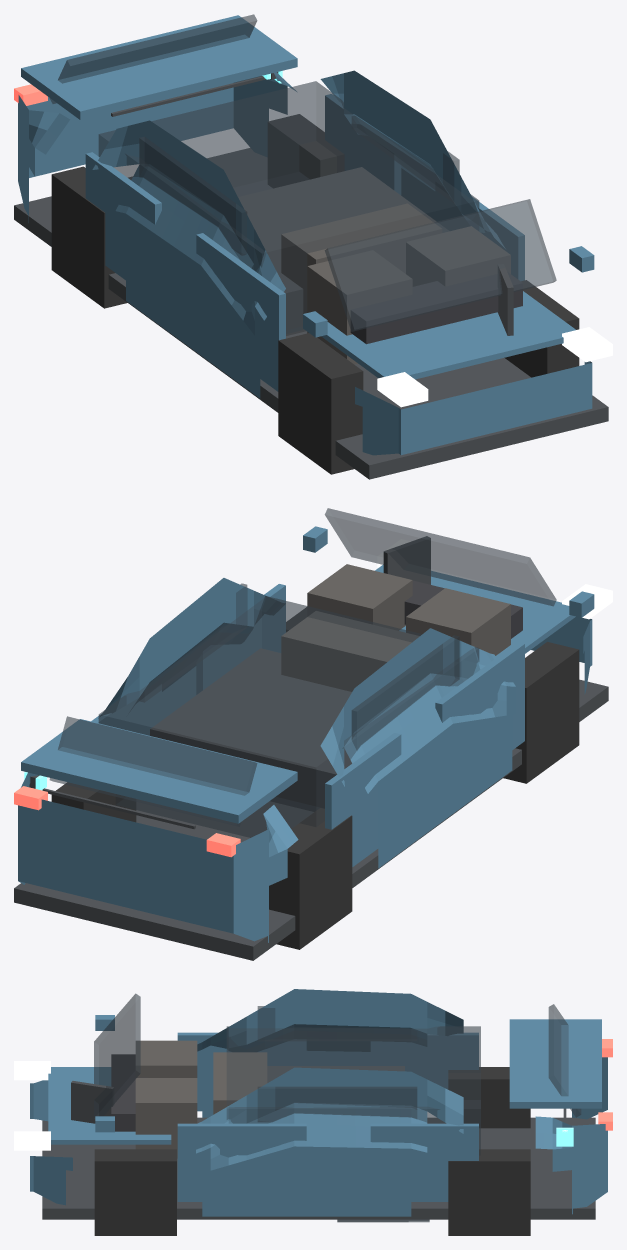
The model's file is compact_sedan_lod2.glb.
3 renders of one model, top to bottom at view 1: azimuth 30°, elevation 25°; view 2: azimuth 150°, elevation 25°; view 3: azimuth 270°, elevation 25°, orthographic. The views are drawn at different scales.
Parts seen in each view (by area): view 1: body_mesh, cab_mesh, windshield, trunk_mesh, trim_mesh, frunk_mesh, tire_fr, wheel_well_mesh, seat_rear, tire_rr, dash, seat_r (+14 smaller); view 2: body_mesh, cab_mesh, wheel_well_mesh, trunk_mesh, trim_mesh, windshield, tire_rr, rear_glass, seat_rear, tire_fr, seat_l, door_rr_mesh (+14 smaller); view 3: body_mesh, cab_mesh, trim_mesh, trunk_mesh, tire_fl, tire_rl, window_fixed_l, door_rl_mesh, door_fl_mesh, frunk_mesh, windshield, seat_l (+13 smaller).
Boxes of the visible parts, x1,y1,x2,y2 form: body_mesh: (18,70,592,455); cab_mesh: (98,81,479,333); windshield: (325,199,556,331); trunk_mesh: (21,15,297,119); trim_mesh: (14,148,608,479); frunk_mesh: (321,291,575,379); tire_fr: (278,333,363,474); wheel_well_mesh: (238,167,448,335); seat_rear: (281,203,441,313); tire_rr: (51,166,127,308); dash: (350,272,522,344); seat_r: (307,250,412,364); body_mesh: (18,578,592,942); cab_mesh: (98,596,479,837); wheel_well_mesh: (150,648,351,811); trunk_mesh: (21,719,297,823); trim_mesh: (14,679,608,960); windshield: (325,508,556,606); tire_rr: (269,808,352,949); rear_glass: (49,716,257,826); seat_rear: (281,611,419,691); tire_fr: (503,641,579,783); seat_l: (307,564,412,630); door_rr_mesh: (325,733,401,866); body_mesh: (30,989,607,1216); cab_mesh: (226,1026,480,1155); trim_mesh: (42,1117,595,1219); trunk_mesh: (509,1019,601,1108); tire_fl: (94,1149,176,1235); tire_rl: (448,1149,530,1235); window_fixed_l: (257,1086,417,1122); door_rl_mesh: (370,1123,478,1201); door_fl_mesh: (177,1123,306,1201); frunk_mesh: (48,1067,171,1144); windshield: (94,993,140,1118); seat_l: (135,1078,197,1158).
Size of the model in its own units: 2.04 by 1.73 by 4.87.
